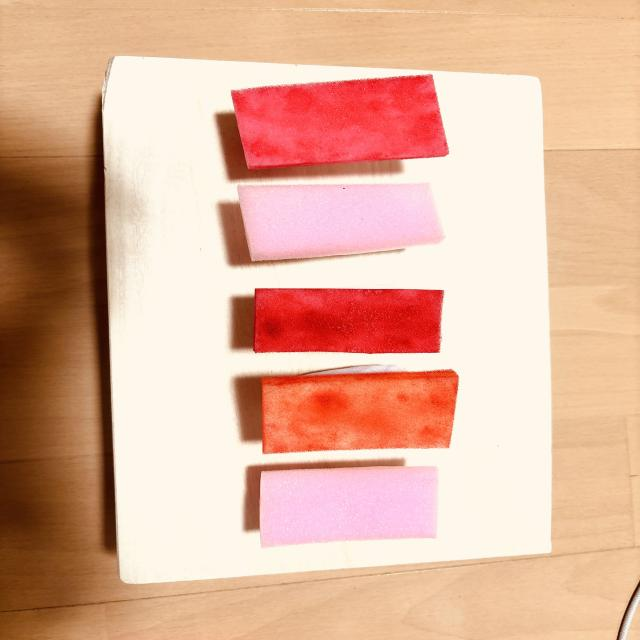maguro: (232, 75, 448, 169), (254, 289, 443, 353)
salmon: (262, 370, 458, 453)
tai: (238, 183, 443, 261), (260, 466, 438, 546)
